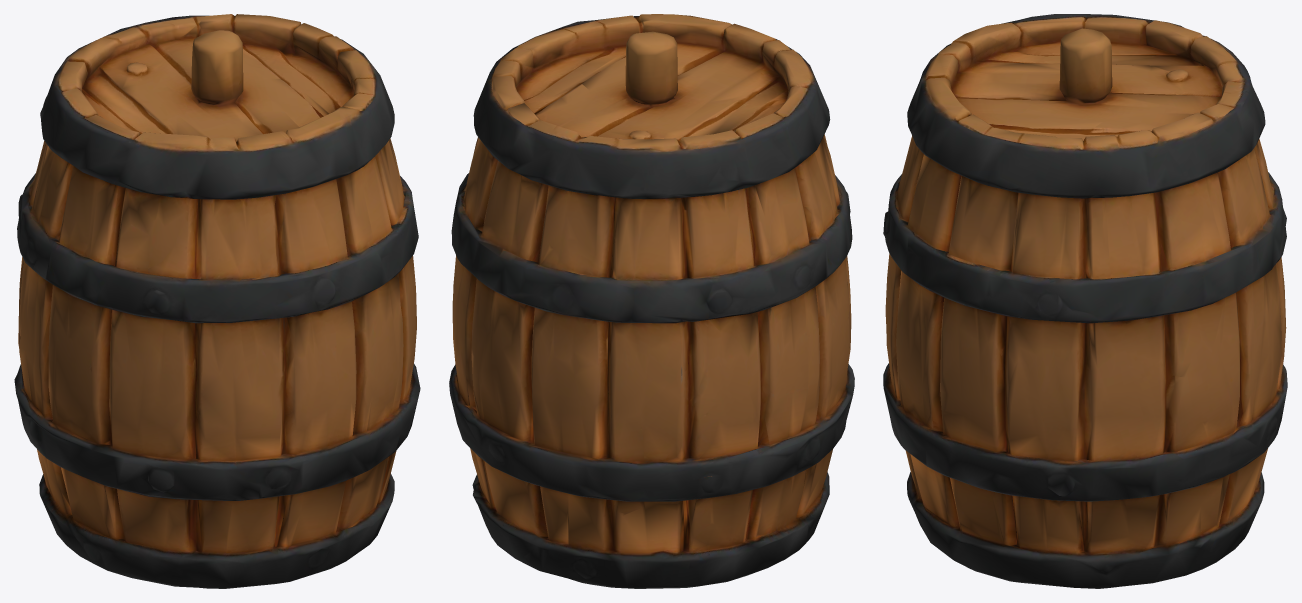
The model's file is prop-barrel.glb.
3 renders of one model, left to right at view 1: azimuth 30°, elevation 25°; view 2: azimuth 150°, elevation 25°; view 3: azimuth 270°, elevation 25°, orthographic.
Parts seen in each view (by area): view 1: tripo_node_f04d8d5c-a99b-4029-a12a-2c8f13a6c6f7; view 2: tripo_node_f04d8d5c-a99b-4029-a12a-2c8f13a6c6f7; view 3: tripo_node_f04d8d5c-a99b-4029-a12a-2c8f13a6c6f7.
Part boxes in pixels (bbox=[...]): tripo_node_f04d8d5c-a99b-4029-a12a-2c8f13a6c6f7: bbox=[14, 14, 420, 588]; tripo_node_f04d8d5c-a99b-4029-a12a-2c8f13a6c6f7: bbox=[449, 14, 854, 588]; tripo_node_f04d8d5c-a99b-4029-a12a-2c8f13a6c6f7: bbox=[883, 14, 1287, 588].
Size of the model in its own units: 0.7551 by 0.9999 by 0.7514.
Materials: 1 (1 with a texture image).
